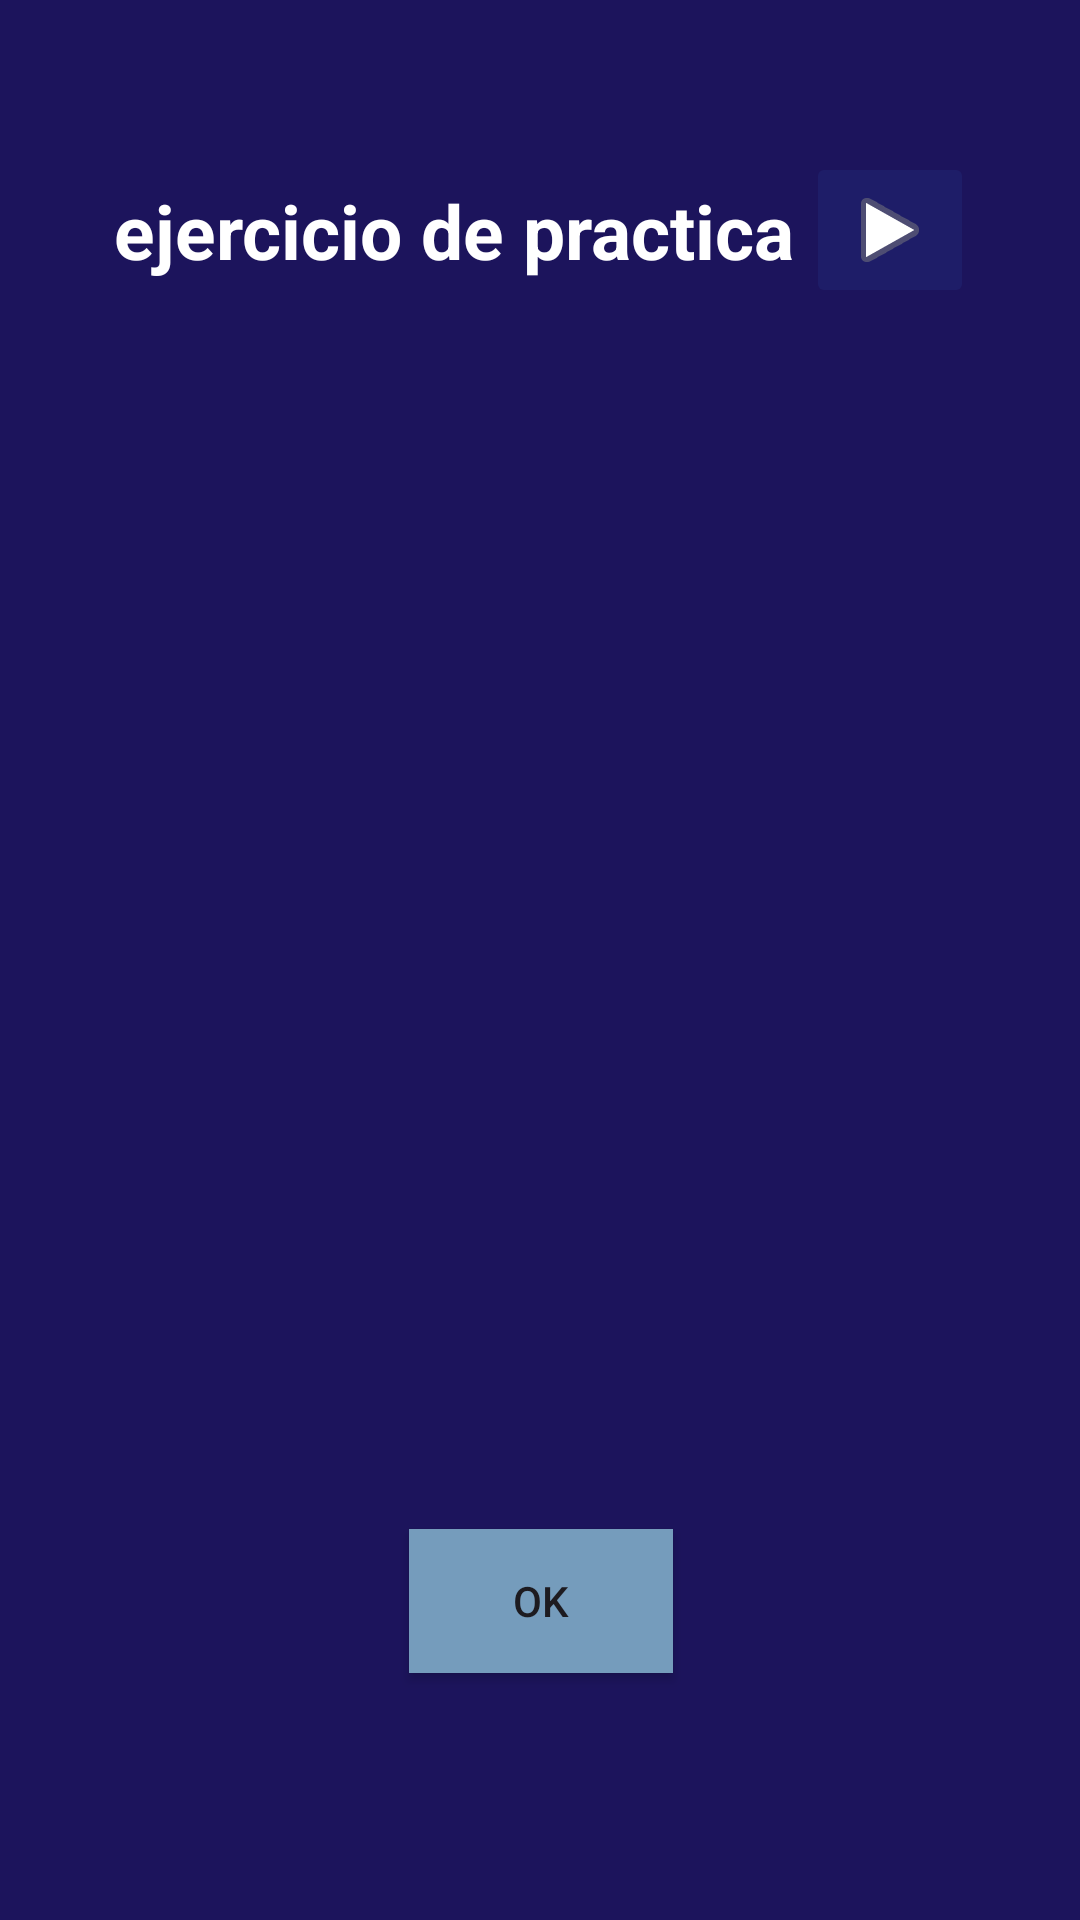

Where to tap for icons on this 1080×1920 app screen, as [x,y]:
play: [890,230]
